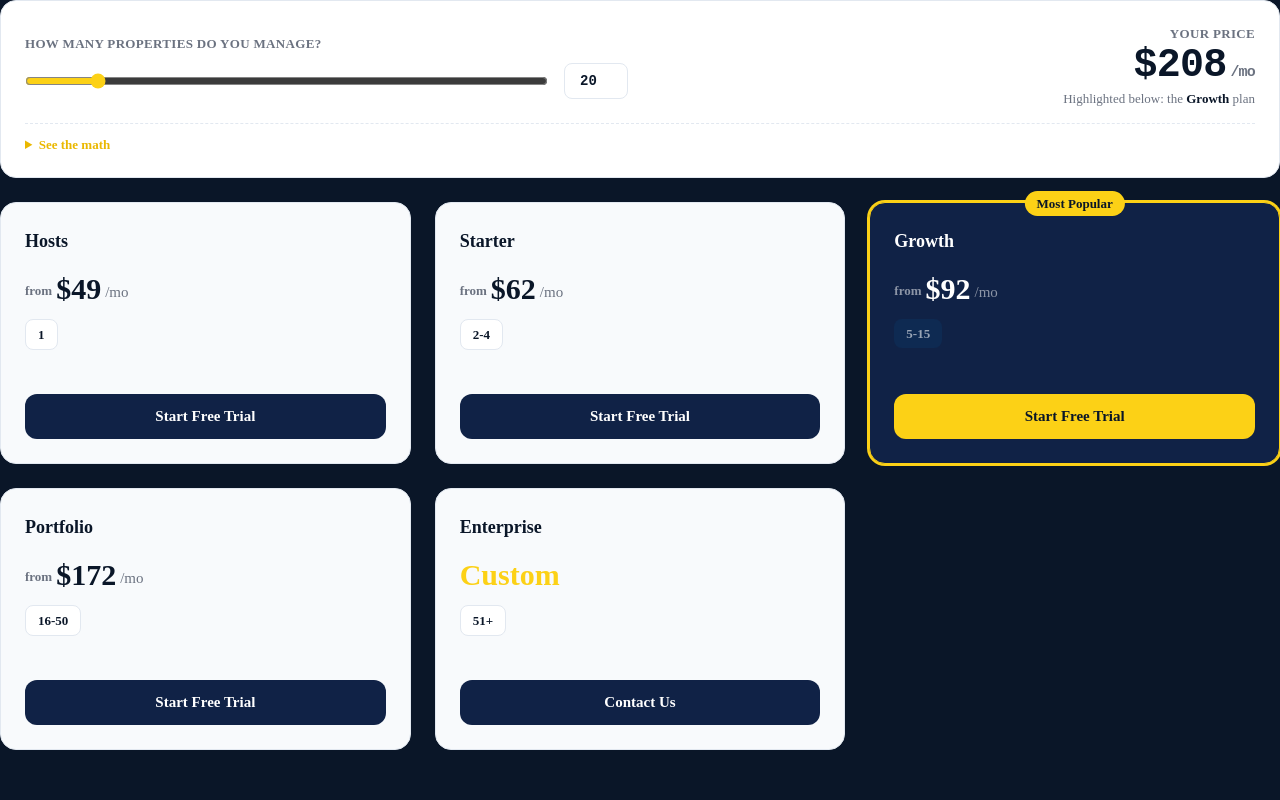
Test: PricingCards calculator — non-integer property counts › rounds a decimal typed into the number input to a valid integer
This screenshot has width=1280, height=800.
Replace the text in the number field with "12.5". click: (596,81)
box: [564,63,628,99]
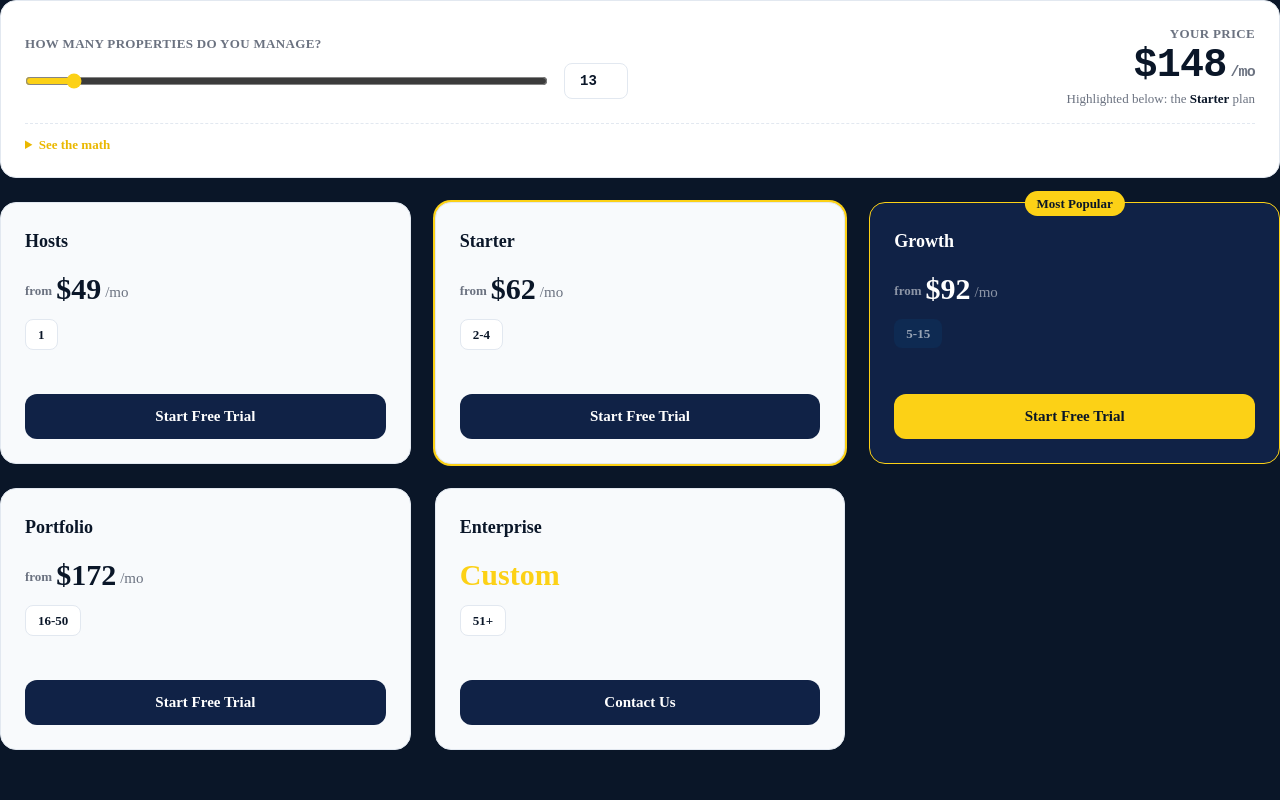
expect the number field holds "13": met, box [564,63,628,99]
